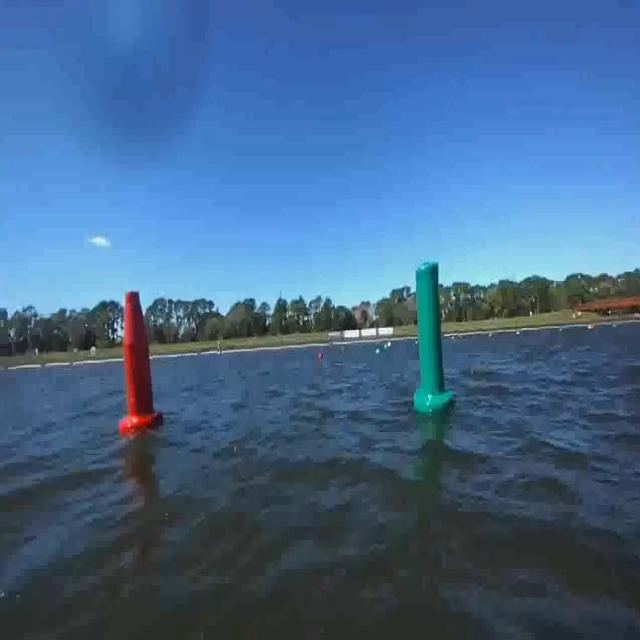green-column-buoy: (413, 258, 454, 414)
red-column-buoy: (120, 283, 163, 434)
